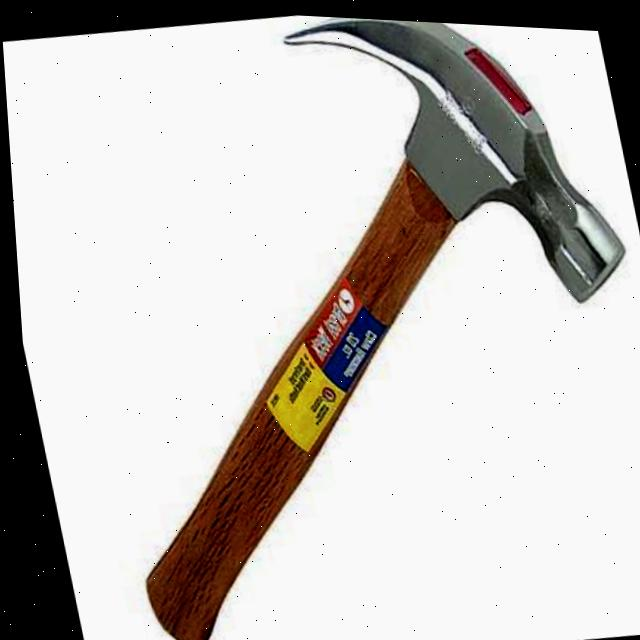hammer: (21, 1, 640, 640)
